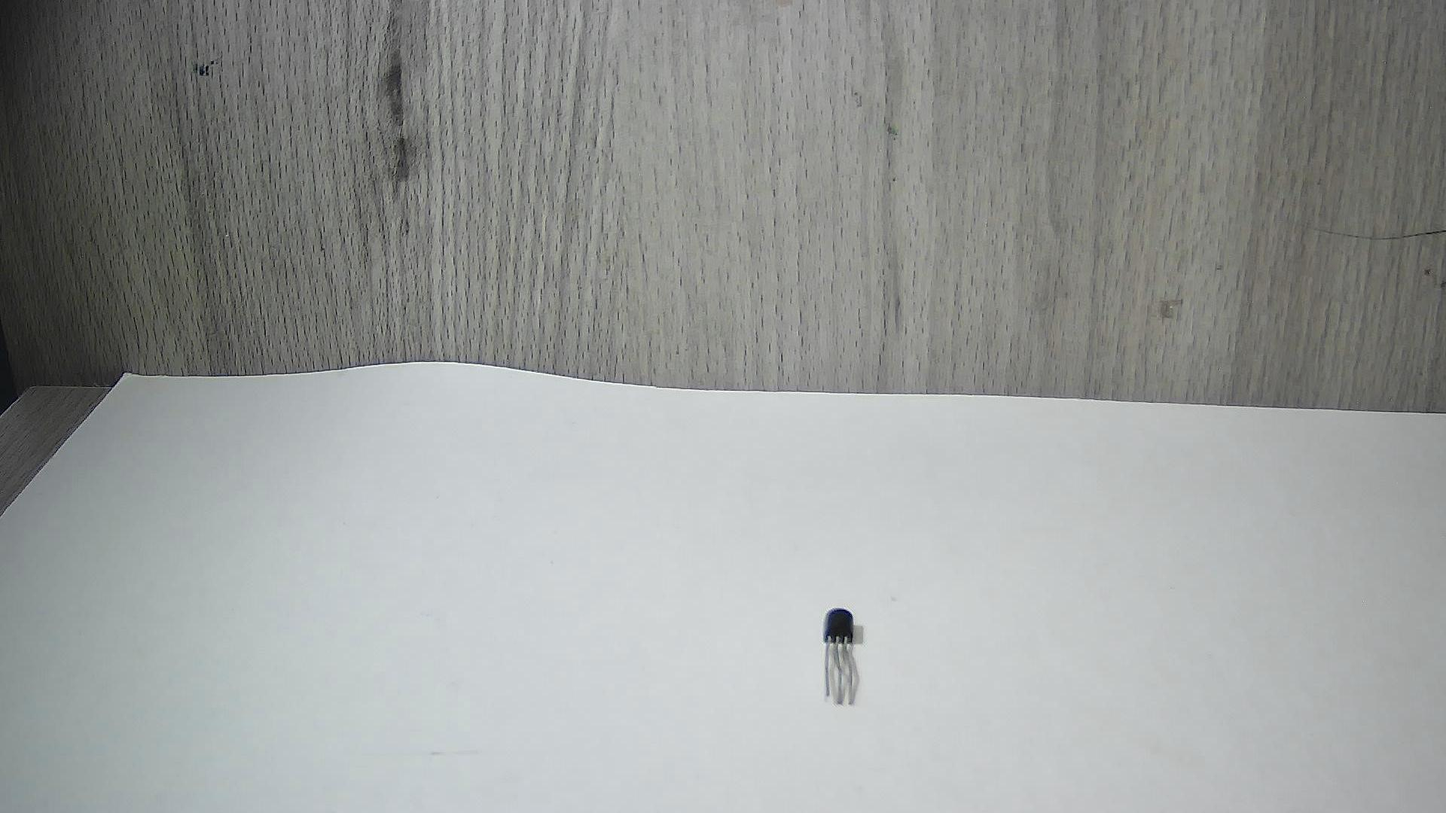Transistor: (803, 587, 884, 718)
